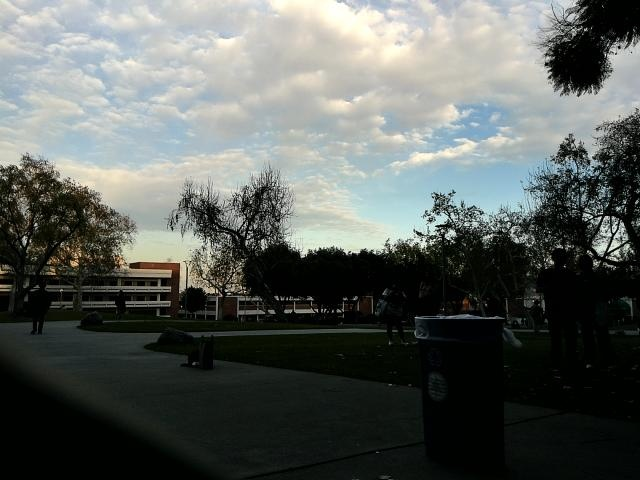trashcan_open: (407, 307, 506, 466)
